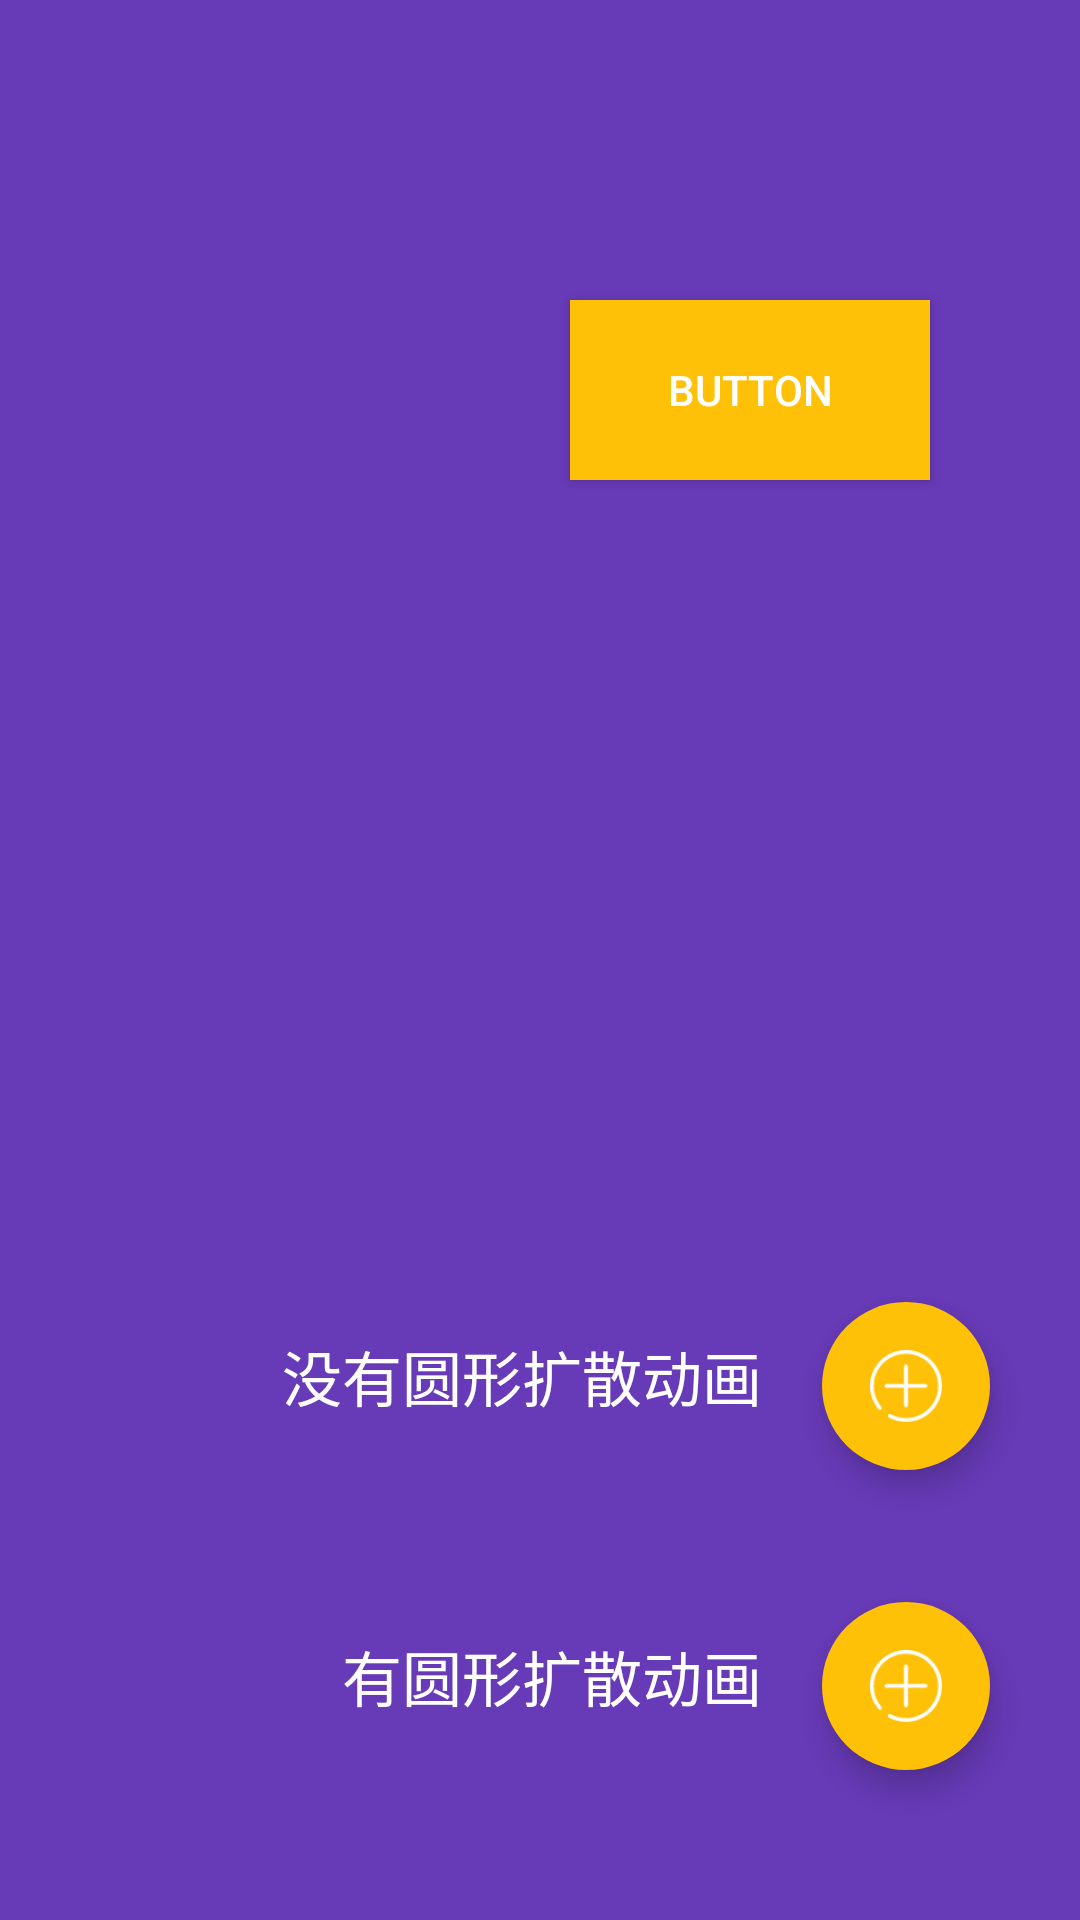

Icon click points for this 1080x1920 phone screenshot, format point (x, y):
plus: point (906, 1386), point (906, 1686)
